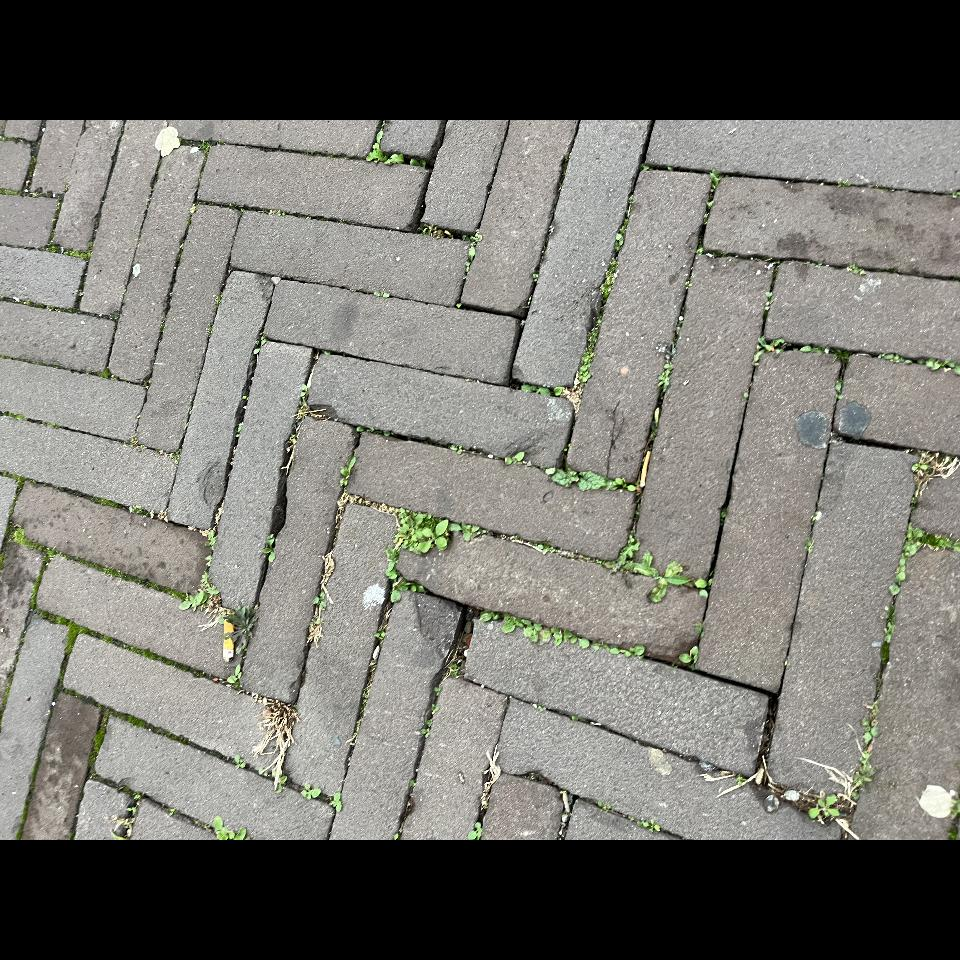weed: (238, 468, 344, 822), (27, 330, 87, 462), (183, 600, 228, 765), (286, 515, 331, 599), (476, 874, 503, 960), (224, 300, 267, 352), (673, 486, 710, 546), (448, 693, 523, 722), (348, 665, 371, 755), (350, 660, 371, 756), (581, 734, 645, 753), (523, 717, 581, 736), (0, 333, 24, 367), (27, 944, 72, 960), (0, 587, 18, 602)
